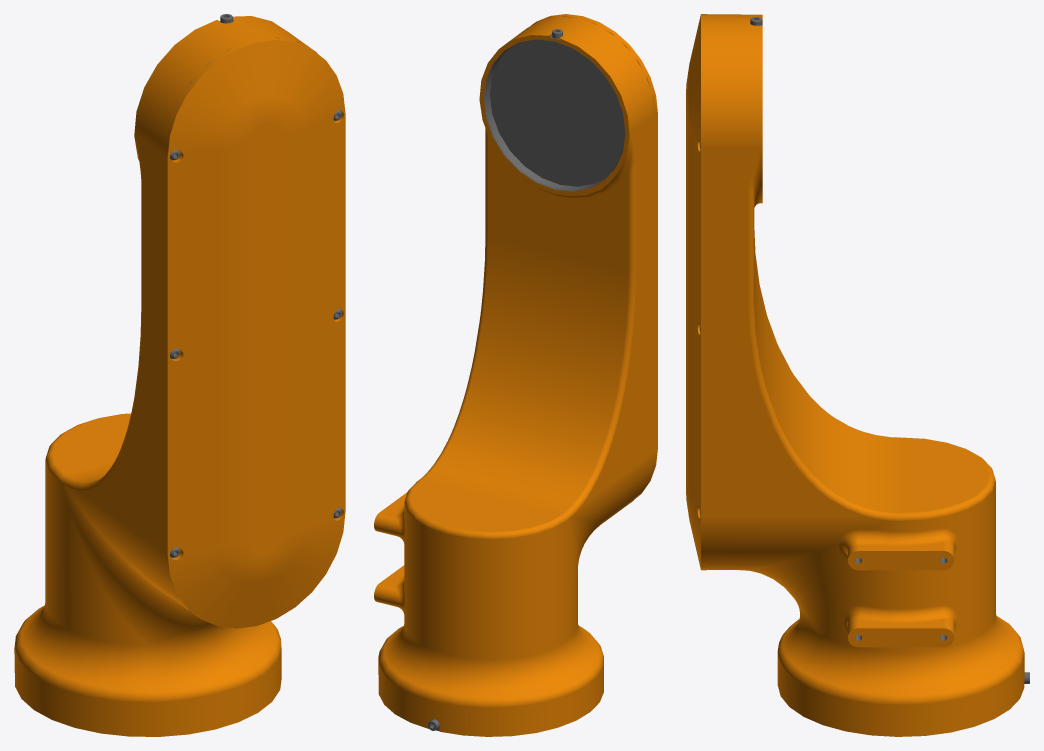
3 views of the same model, side by side, from view 1: azimuth 30°, elevation 25°; view 2: azimuth 150°, elevation 25°; view 3: azimuth 270°, elevation 25° (orthographic). The views are drawn at different scales.
Visible parts, largest first — view 1: NONE, NONE_ncl1_1; view 2: NONE_ncl1_1, NONE; view 3: NONE_ncl1_1, NONE.
Part boxes in pixels (left/top/right/bottom): NONE: left=164, top=37, right=345, bottom=628; NONE_ncl1_1: left=14, top=14, right=341, bottom=736; NONE_ncl1_1: left=374, top=16, right=654, bottom=736; NONE: left=531, top=14, right=657, bottom=498; NONE_ncl1_1: left=700, top=14, right=1029, bottom=736; NONE: left=686, top=14, right=707, bottom=570.
Size of the model in its own units: 0.116 by 0.1615 by 0.345.
